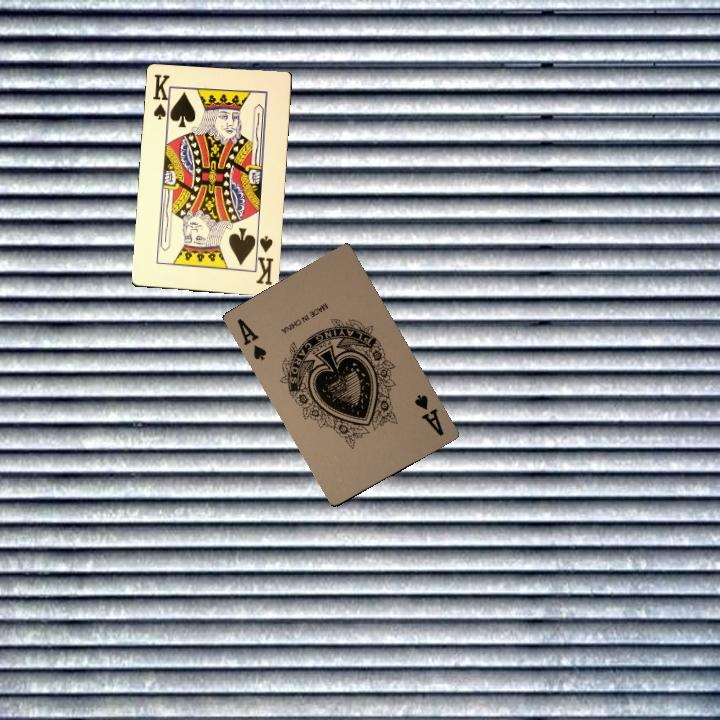As: (410, 391, 446, 439), (233, 314, 269, 362)
Ks: (249, 233, 276, 287), (149, 70, 173, 125)
